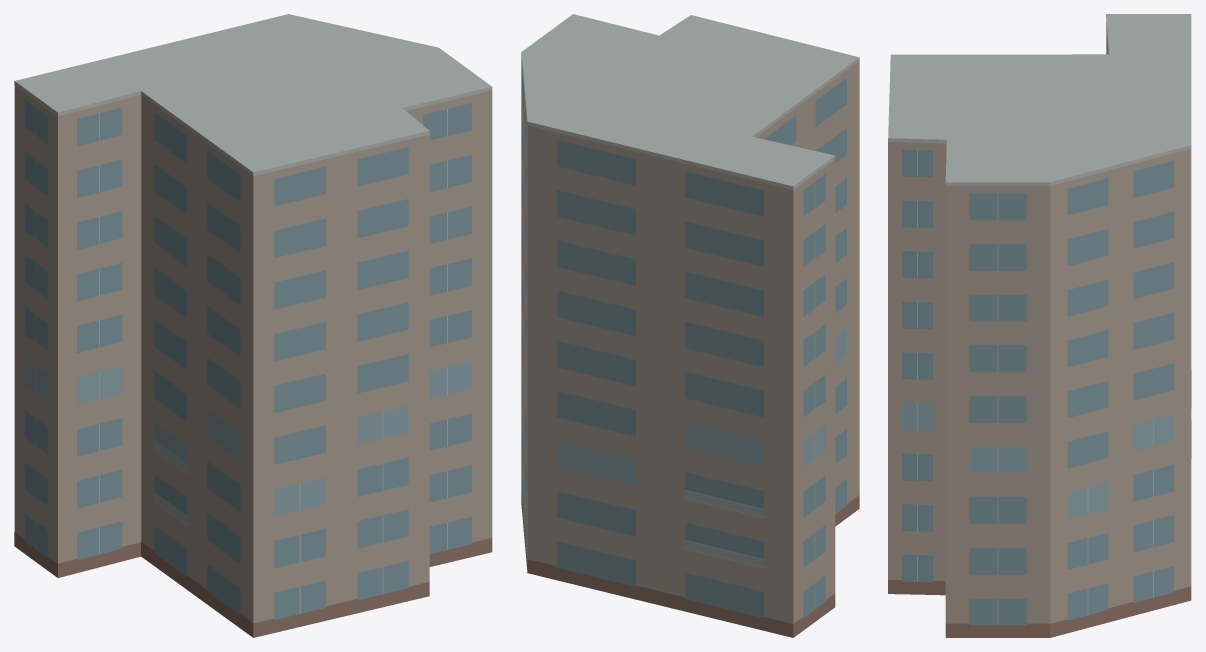
The model's file is survey-upis-32777788.glb.
3 renders of one model, left to right at view 1: azimuth 30°, elevation 25°; view 2: azimuth 150°, elevation 25°; view 3: azimuth 270°, elevation 25°, orthographic. The views are drawn at different scales.
Parts seen in each view (by area): view 1: survey-upis-32777788.tmp; view 2: survey-upis-32777788.tmp; view 3: survey-upis-32777788.tmp.
Boxes of the visible parts, <box> form: survey-upis-32777788.tmp: <box>14,14,492,637</box>; survey-upis-32777788.tmp: <box>521,14,859,637</box>; survey-upis-32777788.tmp: <box>888,14,1191,637</box>.
Size of the model in its own units: 23.71 by 29.9 by 18.08.
